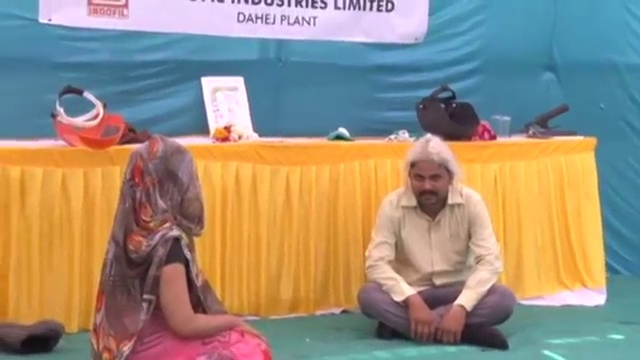helmet_off: (120, 142, 205, 233), (406, 139, 456, 209)
person: (88, 133, 276, 360), (355, 134, 521, 353)
